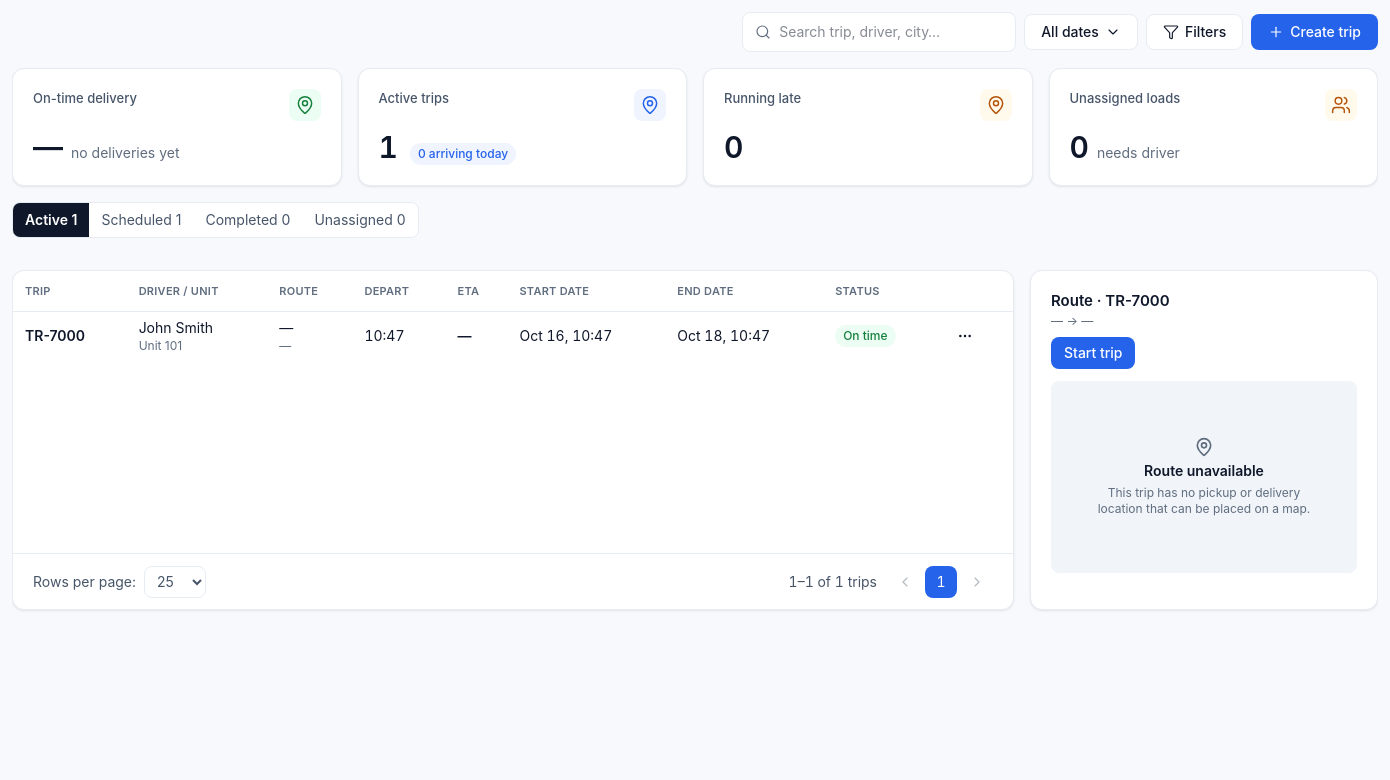
Test: W-11 Dispatch & Trips › LIVE-029: the route panel follows the tab — an Active trip is not kept on Scheduled
The image size is (1390, 780).
Click the text "TR-7000". click: (55, 335)
box: x1=25 y1=326 x2=85 y2=344
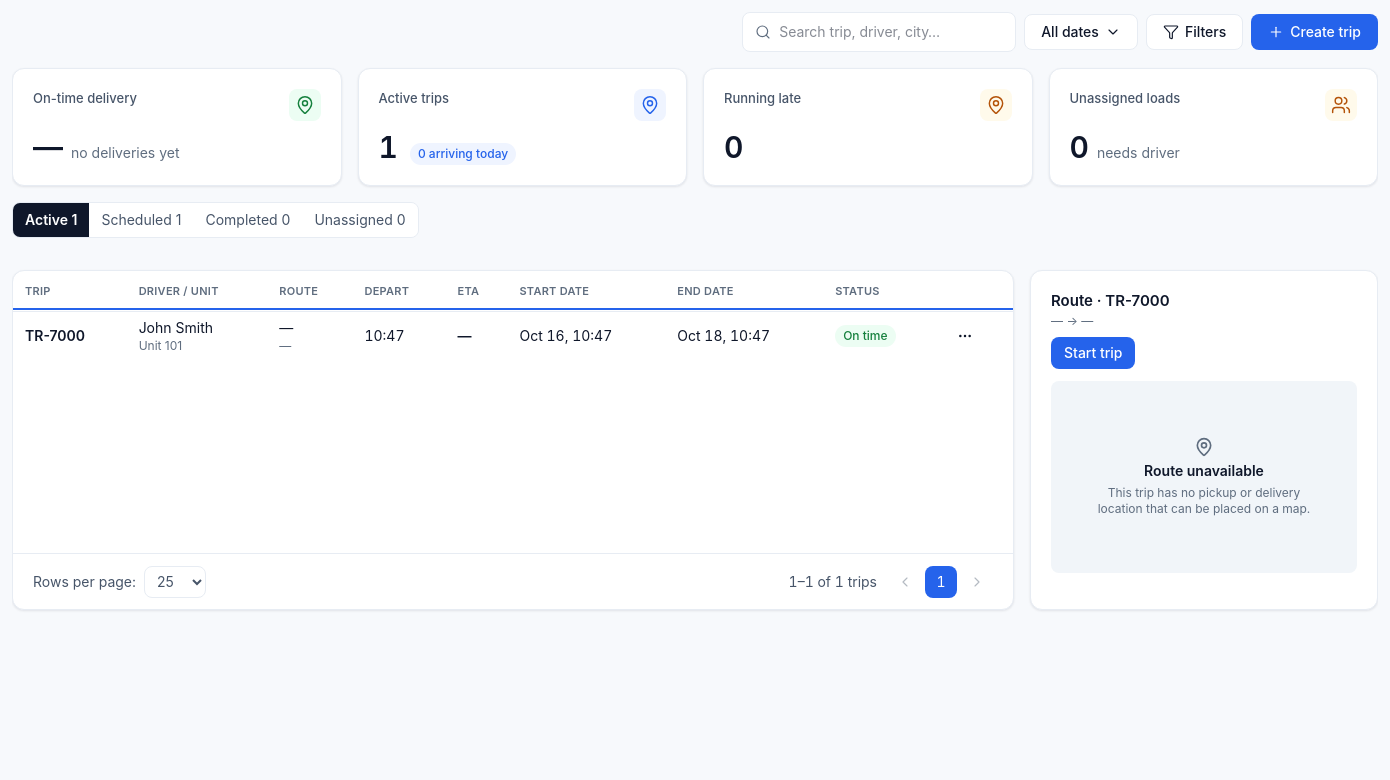
Check: the heading "Route · TR-7000" is shown, box x1=1051 y1=291 x2=1170 y2=311
Click the button "Scheduled 1". click: (141, 220)
box: x1=89 y1=203 x2=193 y2=237
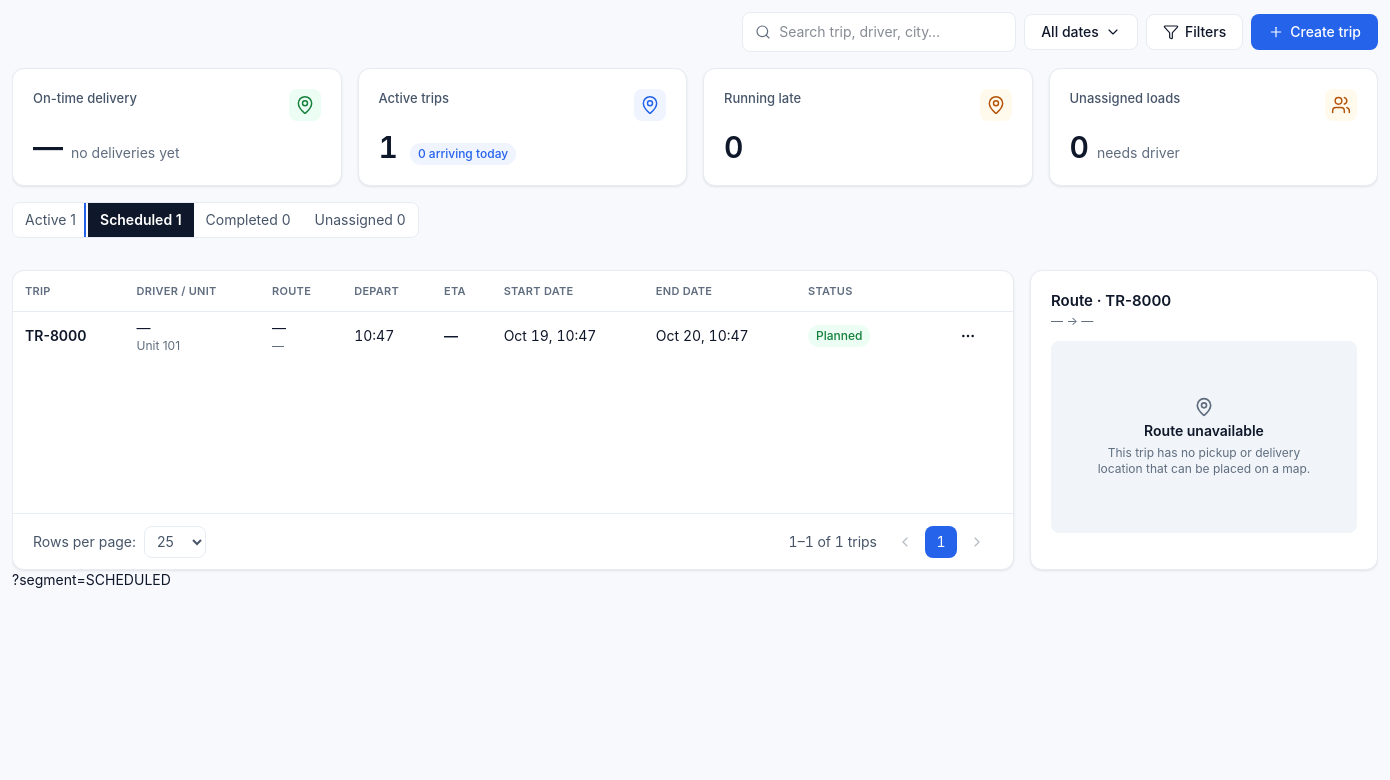
Check: the heading "Route · TR-8000" is shown, box x1=1051 y1=291 x2=1171 y2=311
Check: the heading "Route · TR-7000" is gone
